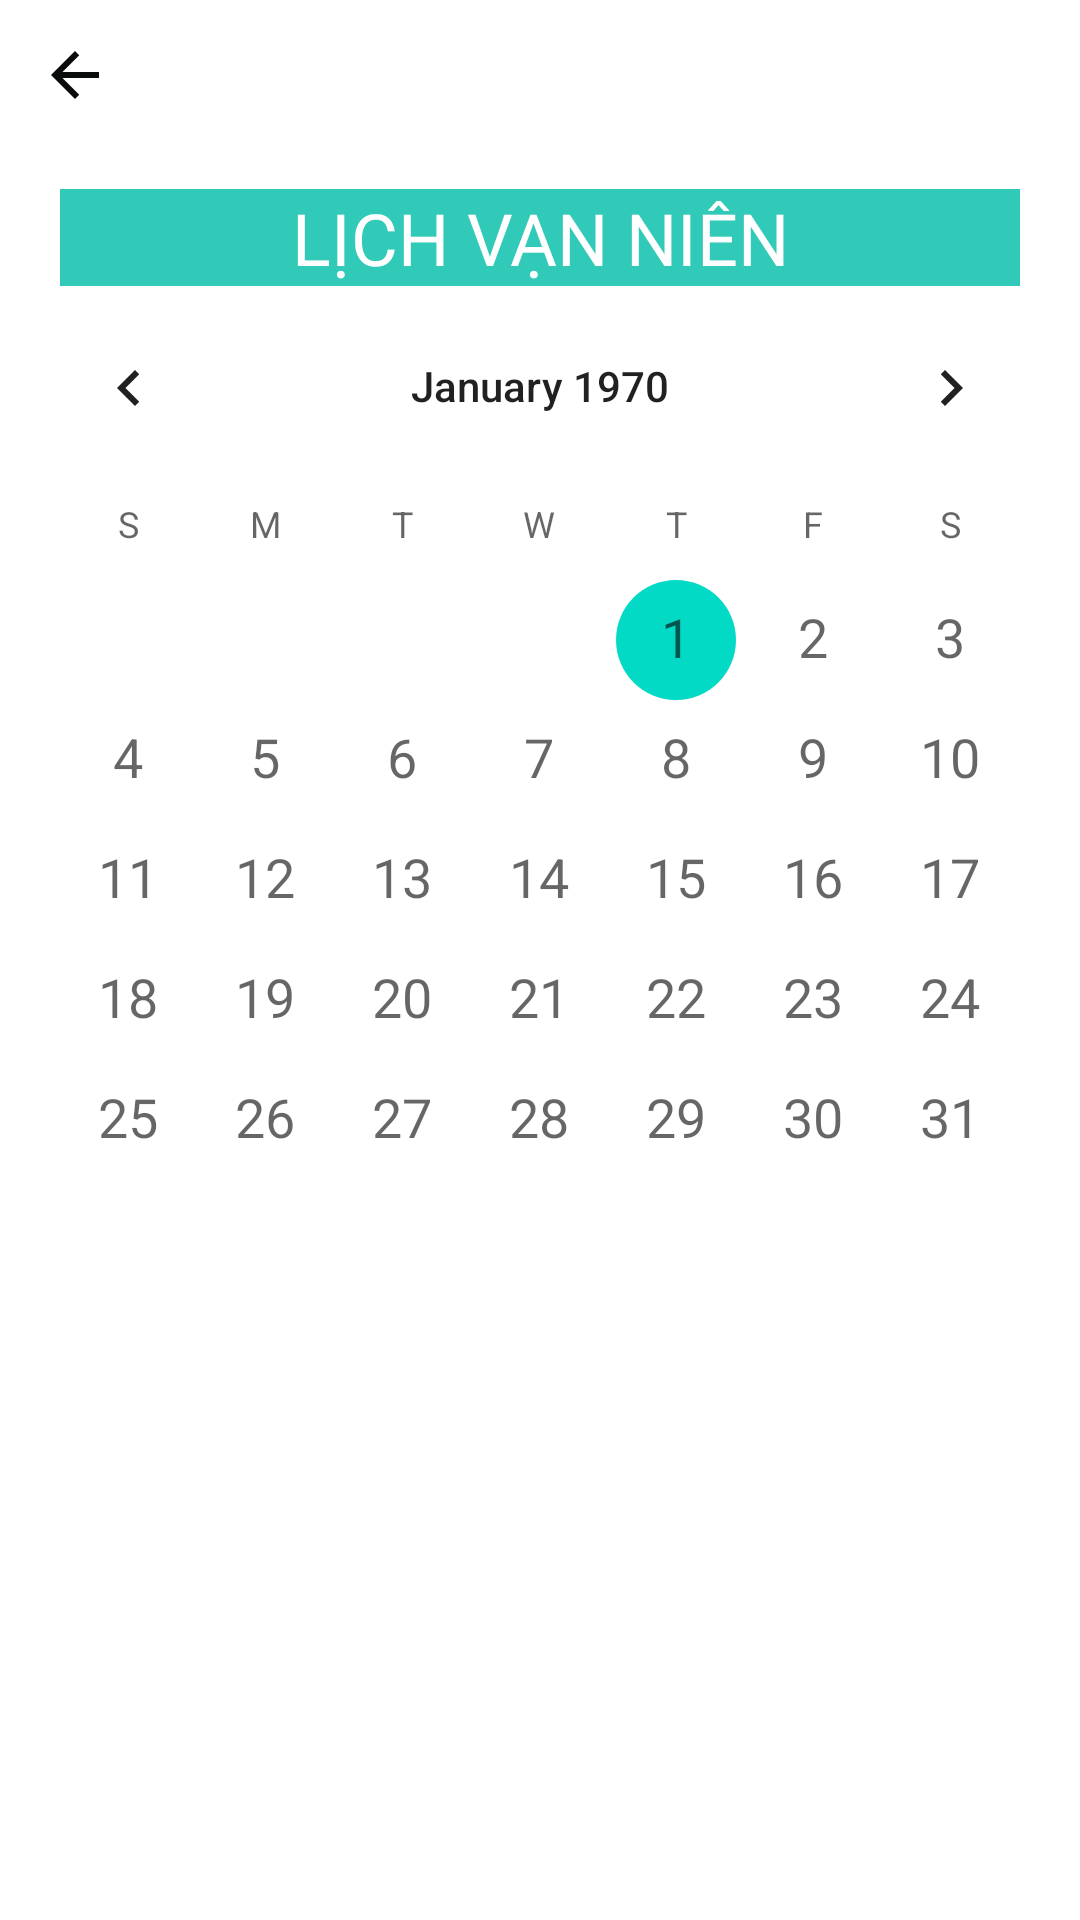

Icon click points for this 1080w x 1920h phone screenshot, format (x=x, y=y):
arrow back: (x=75, y=75)
